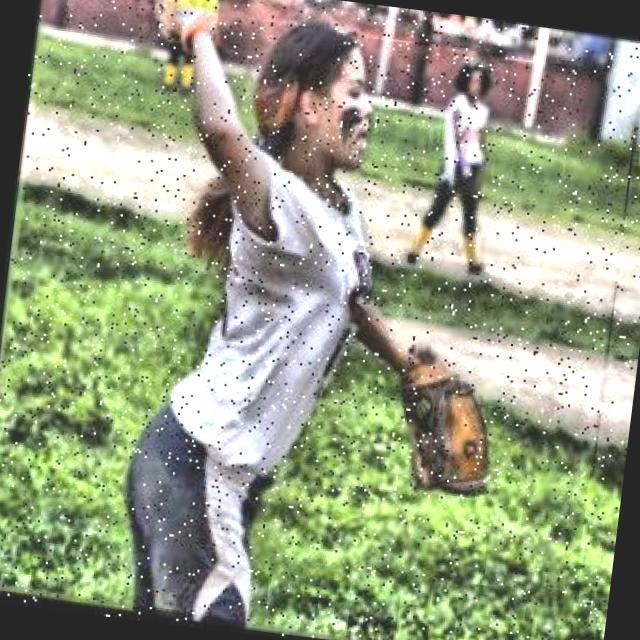Tennis Ball: (151, 0, 220, 27)
